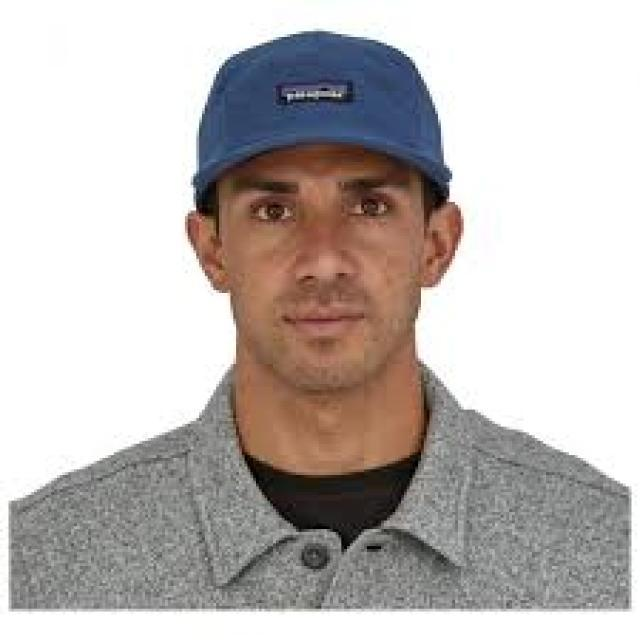cap: (163, 6, 464, 215)
